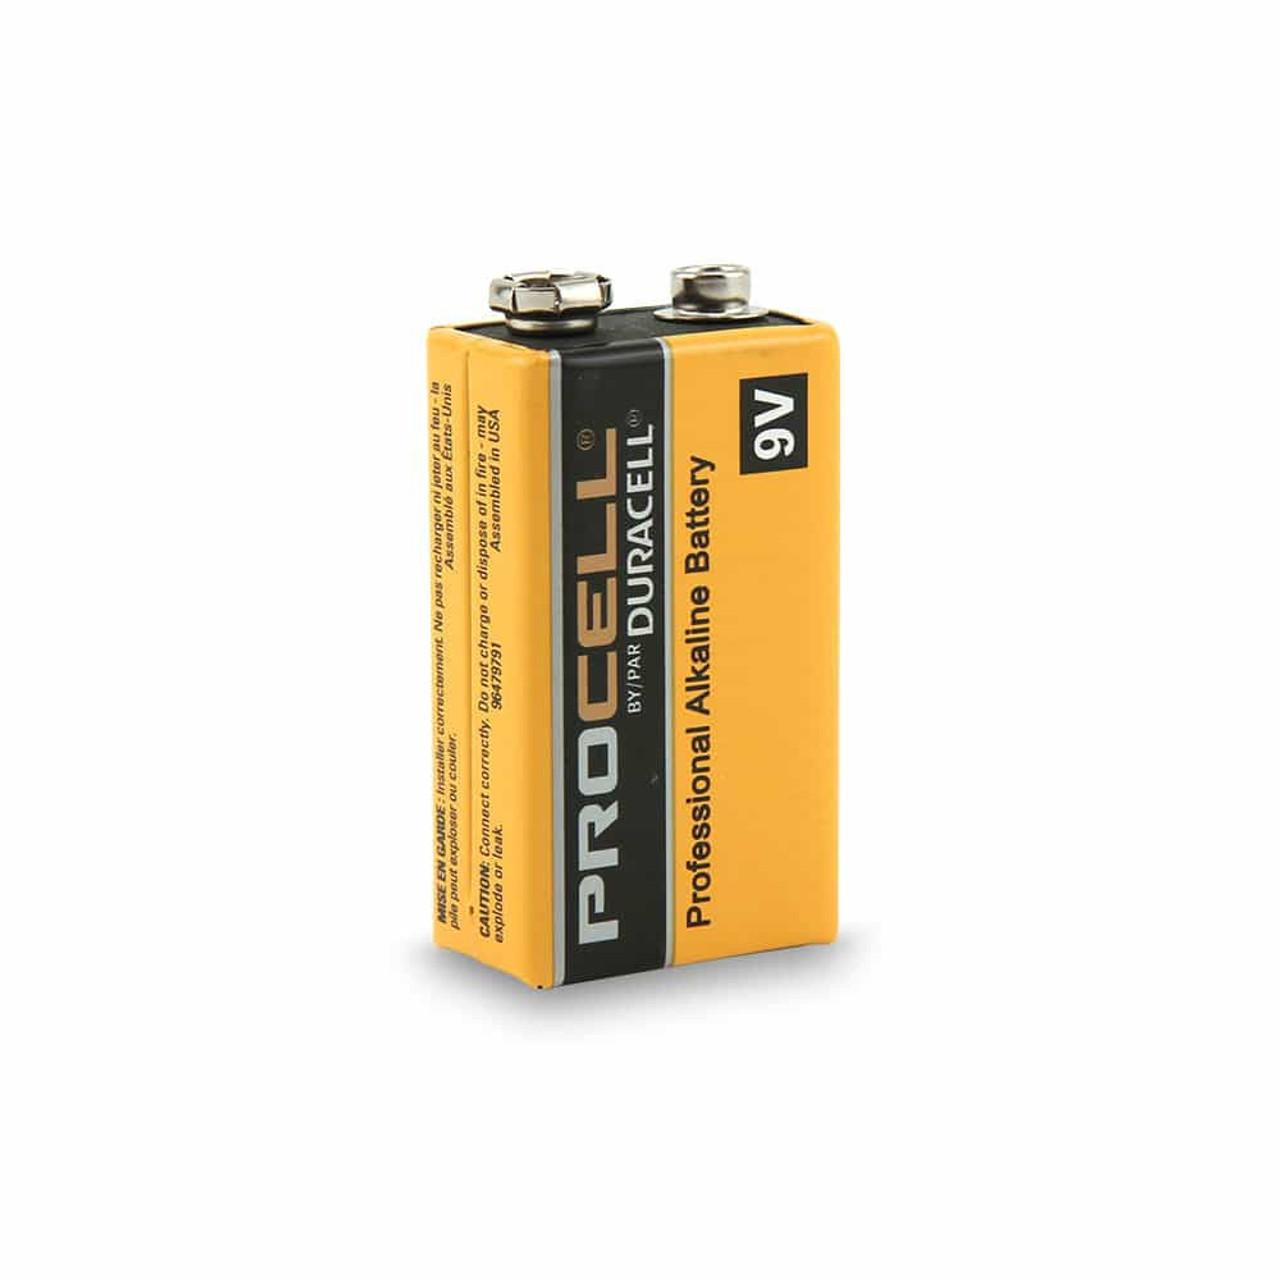9V Battery: (428, 264, 847, 993)
